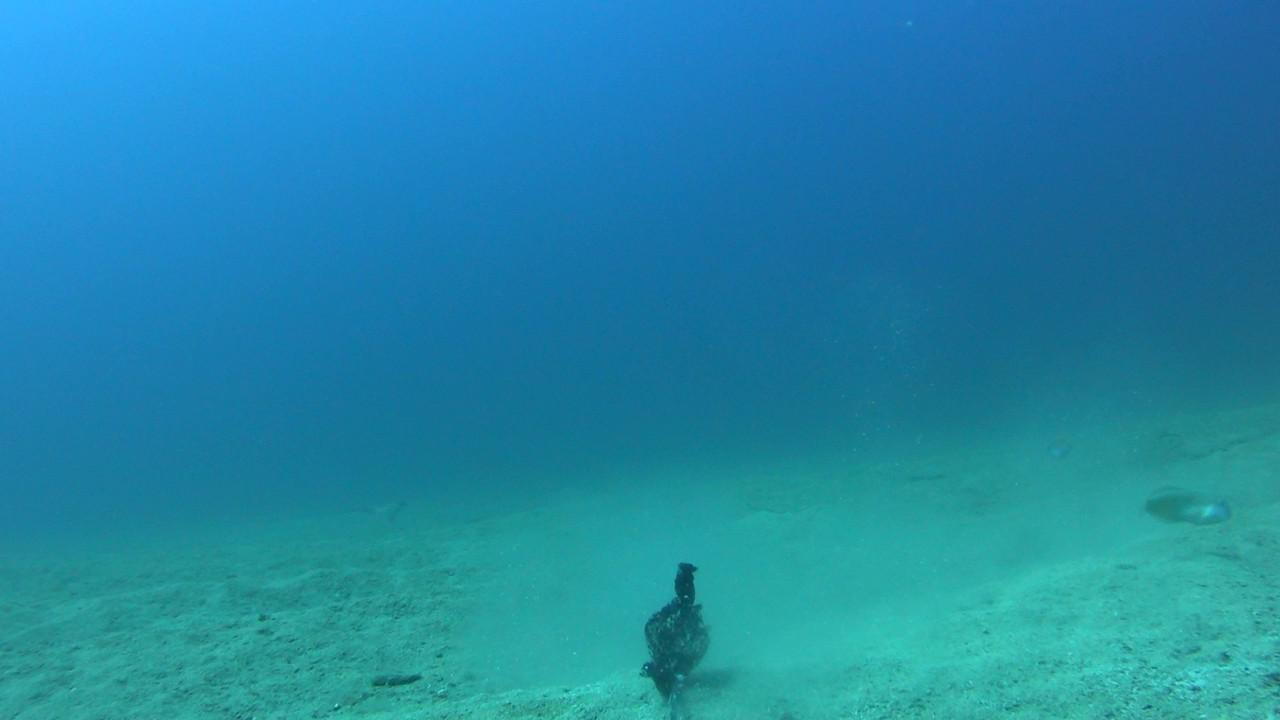myliobatis: (296, 465, 427, 530)
raor: (1143, 485, 1237, 529)
